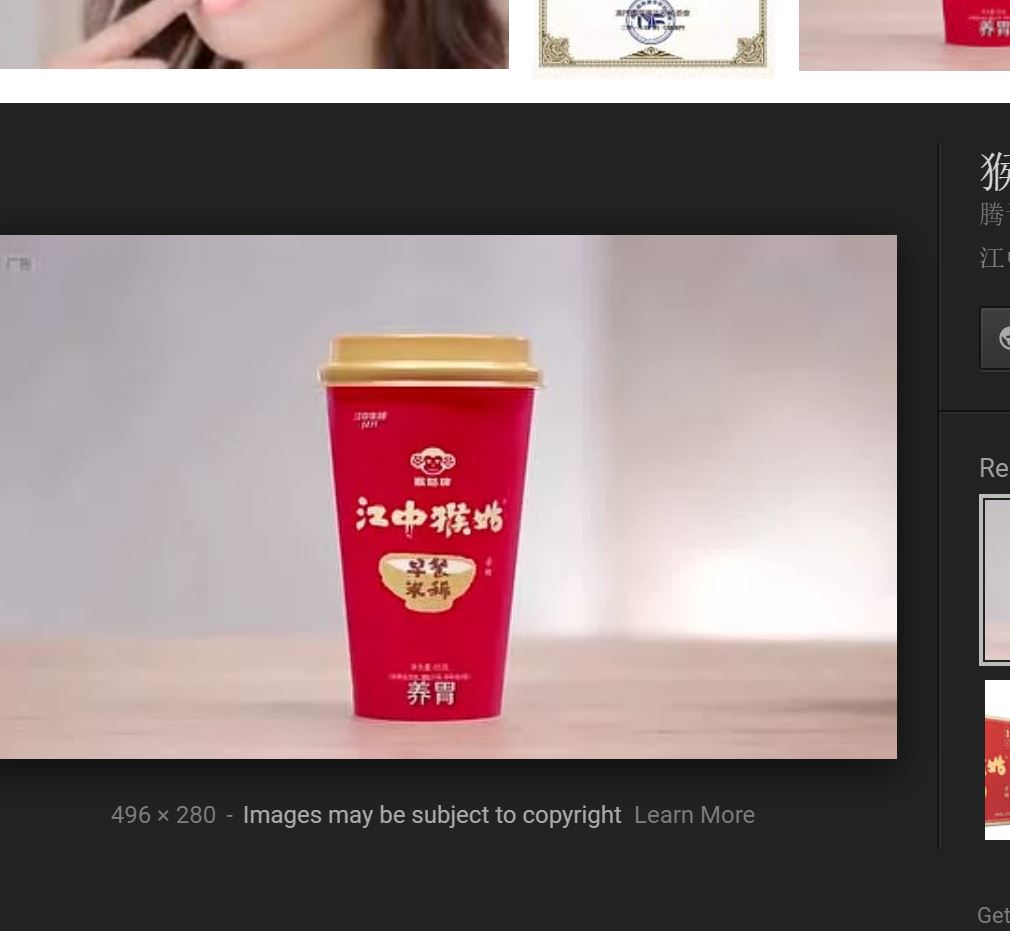cup: (318, 329, 542, 723)
